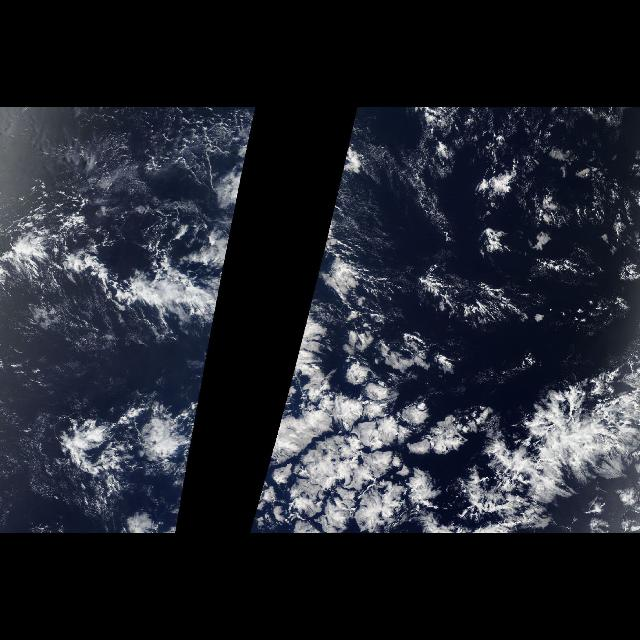Fish: (440, 346, 638, 530), (4, 203, 238, 357)
Flower: (262, 317, 446, 529)
